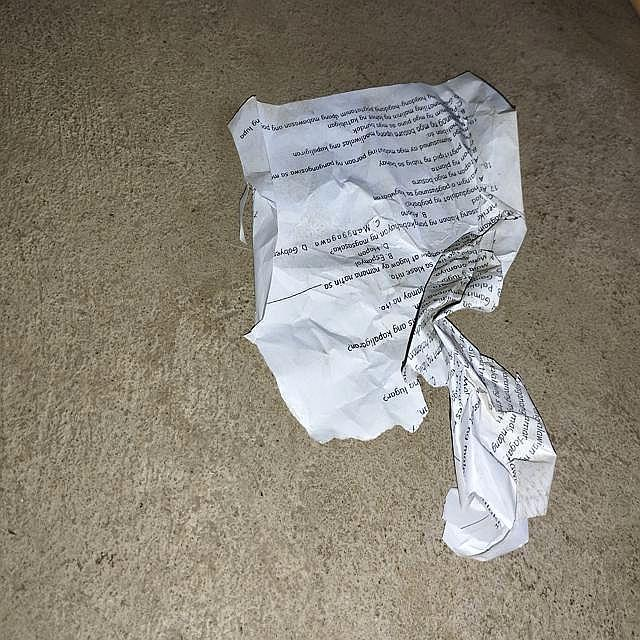Biodegradable: (227, 83, 569, 563)
